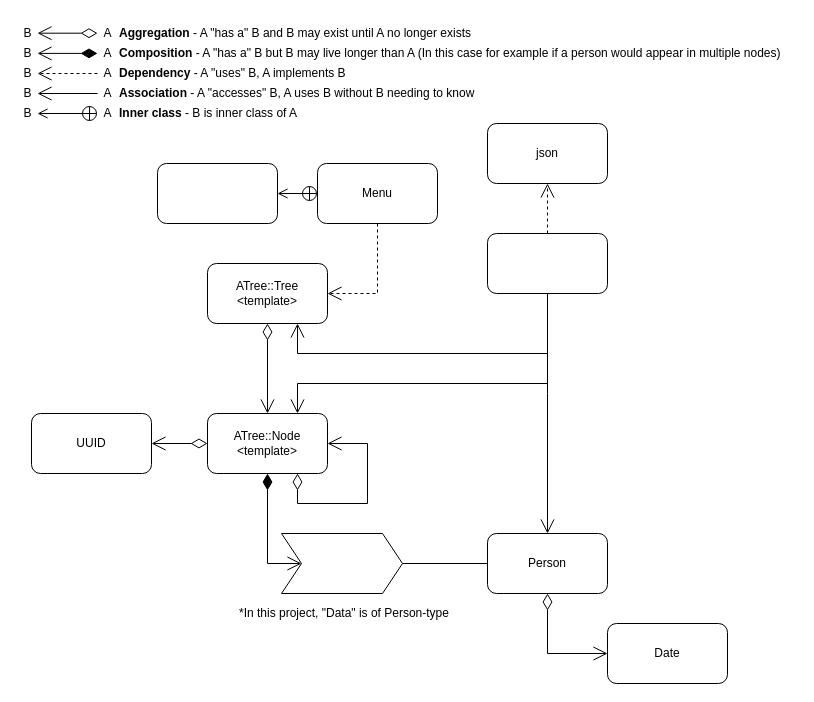
The diagram is 814 pixels wide and 702 high, and some of its shapes have lost their labels. Each missing label, with the centre of its shape:
Data* <template>: pixel 341 563
JsonParser: pixel 547 263
MenuItem: pixel 217 193
